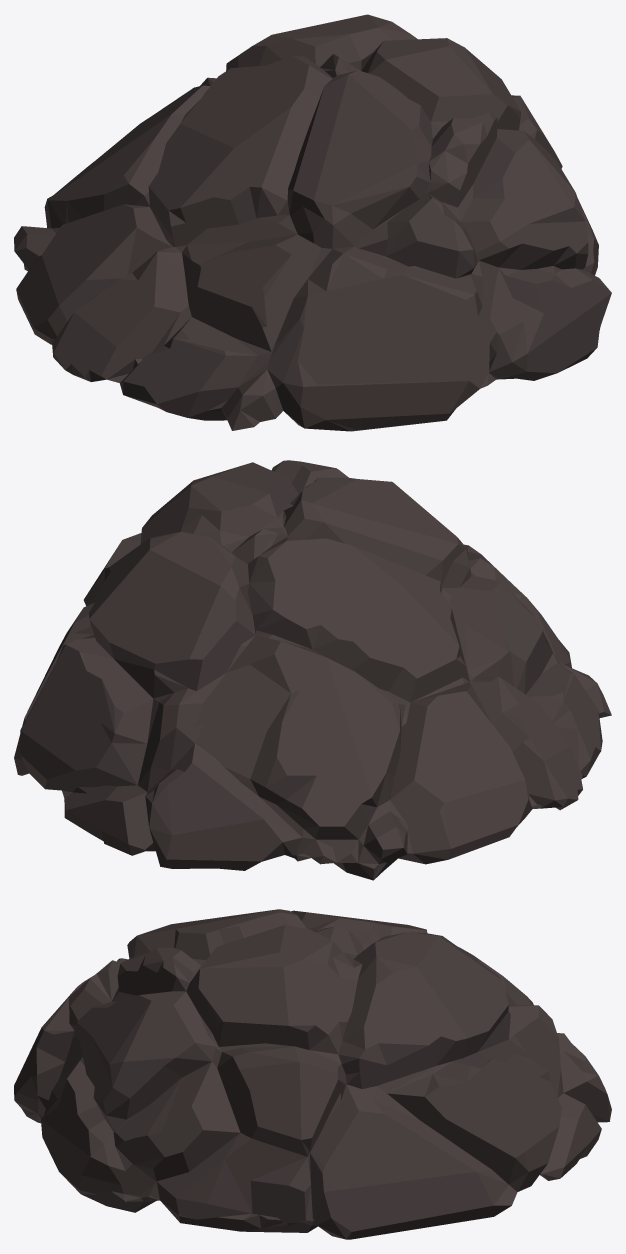
File: stone.fbx
3 views of the same model, one above another, from view 1: azimuth 30°, elevation 25°; view 2: azimuth 150°, elevation 25°; view 3: azimuth 270°, elevation 25° (orthographic). The views are drawn at different scales.
Visible parts, largest first — view 1: Cube.007; view 2: Cube.007; view 3: Cube.007.
Boxes of the visible parts, left/top/right/bottom form: Cube.007: left=14, top=14, right=611, bottom=431; Cube.007: left=14, top=460, right=611, bottom=880; Cube.007: left=14, top=909, right=611, bottom=1239.
Bounding box in the file's own units: 1.87 × 1.99 × 0.869.
